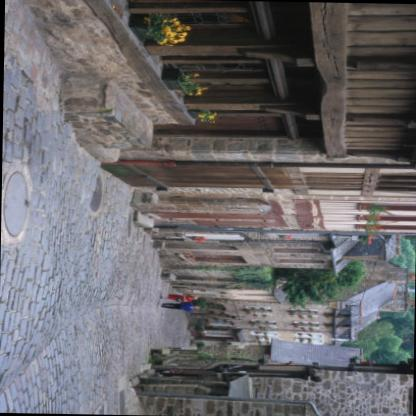manholes: (0, 160, 49, 245), (82, 167, 121, 214)
